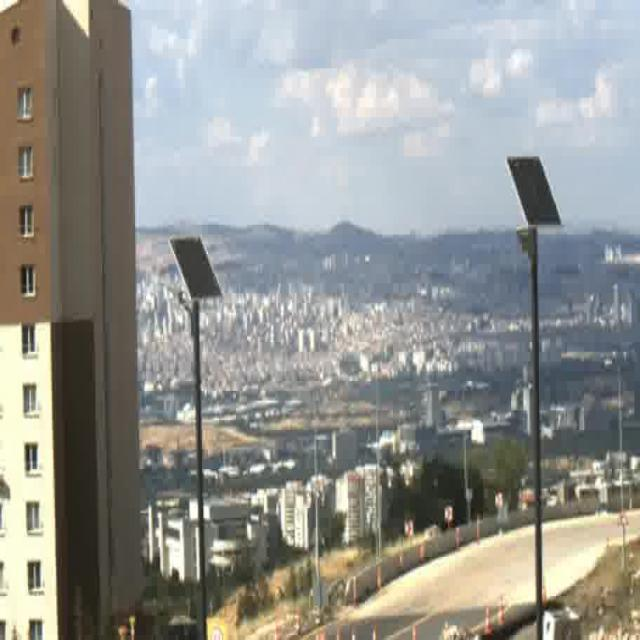Car: (162, 619, 195, 640)
